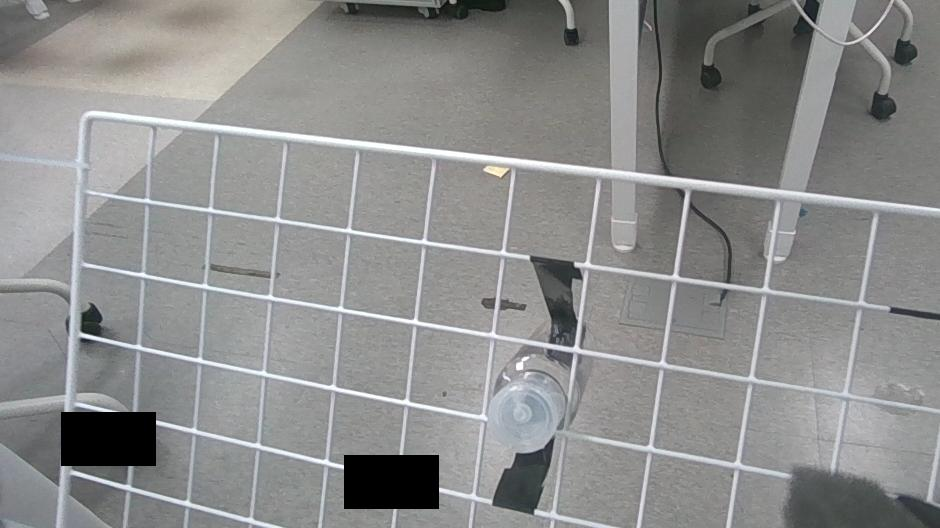Cap: (485, 381, 557, 452)
